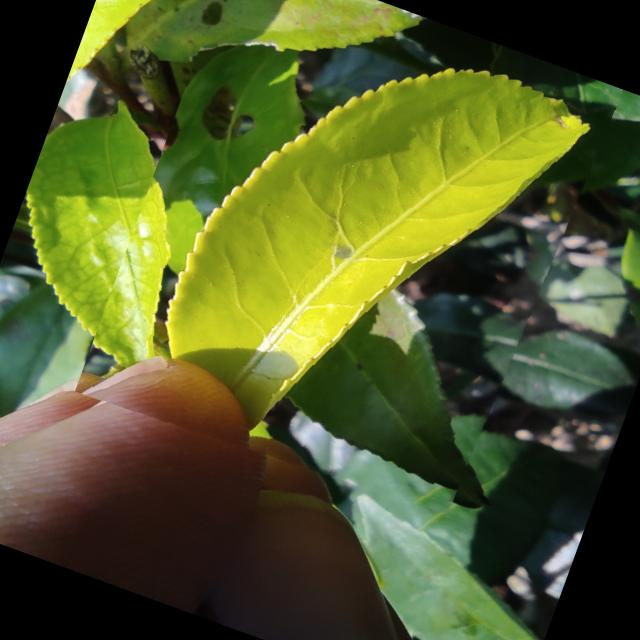Category C(4-7 days): (74, 0, 624, 533)
